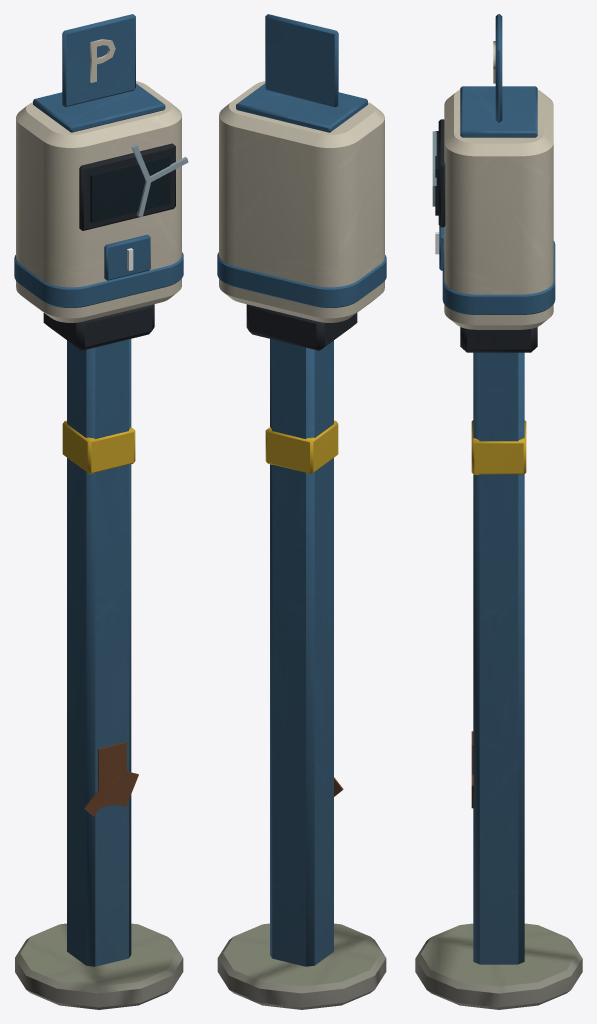
Rendered from parking_meter.glb.
The picture shows the model from 3 angles, left to right: view 1: azimuth 30°, elevation 25°; view 2: azimuth 150°, elevation 25°; view 3: azimuth 270°, elevation 25°; orthographic projection.
Parts seen in each view (by area): view 1: parking_meter; view 2: parking_meter; view 3: parking_meter.
Boxes of the visible parts, box(x1,y1,x2,y2) form: parking_meter: box(14, 14, 188, 1009); parking_meter: box(217, 14, 386, 1009); parking_meter: box(415, 14, 582, 1009).
Size of the model in its own units: 0.26 by 1.63 by 0.26.
11 materials, 11 textured.
